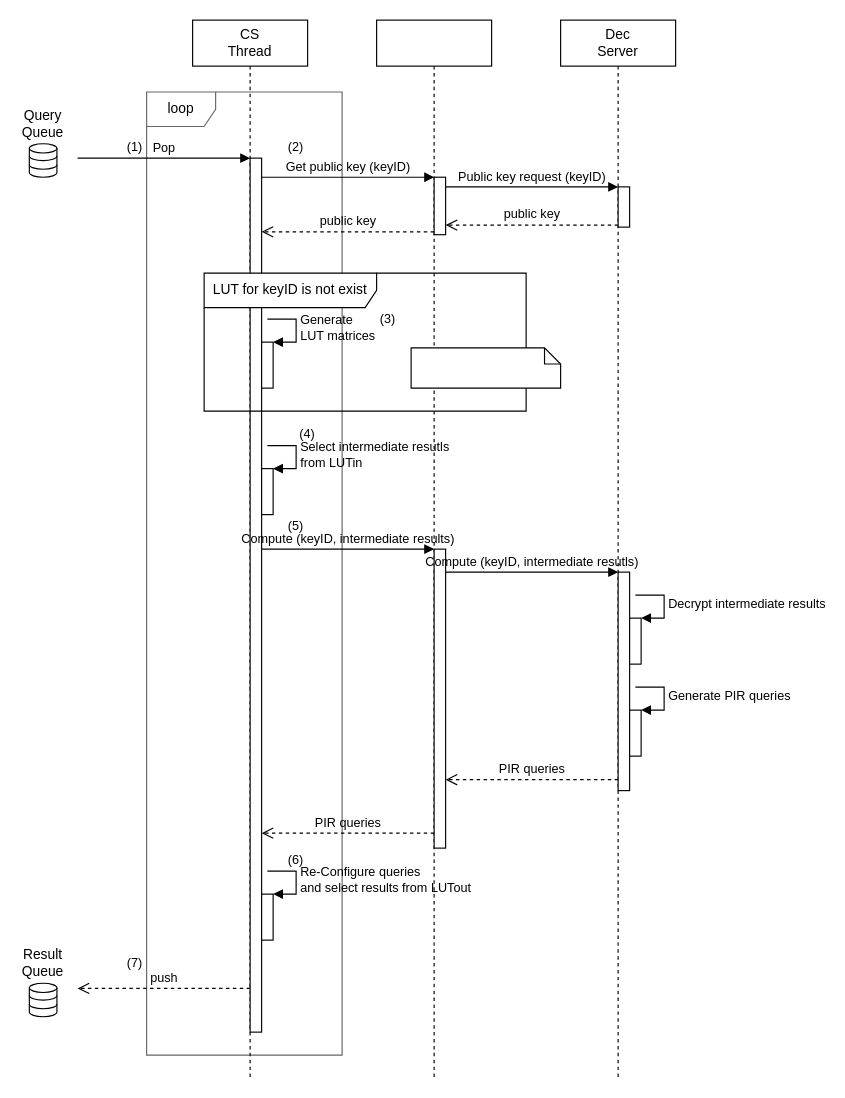
Image size: 845x1098. Some labels were removed from this diagram. Here are the shapes that lost their labels. From the top down, the centre of each, then its label:
(x=485, y=367): share LUT matrices with eath CS threads
(x=433, y=548): CS Client
